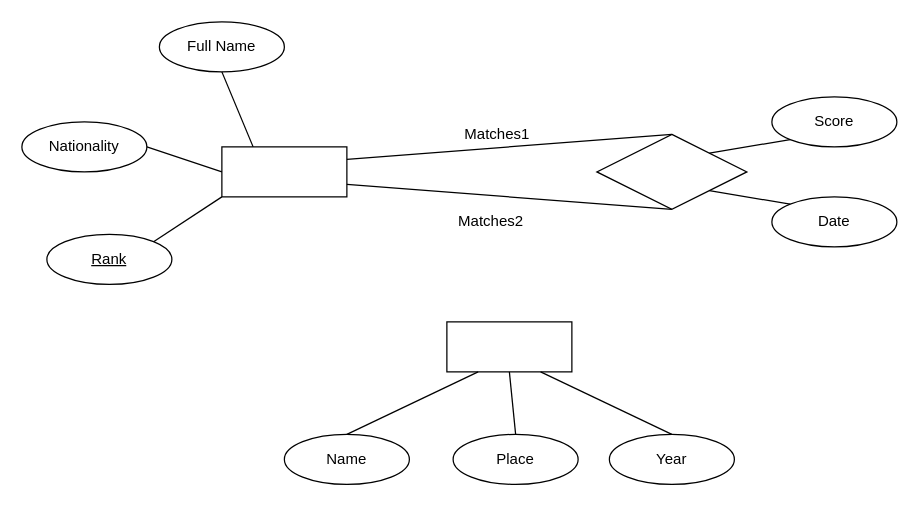
This 919x506 diagram has some shape labels left out. The box of each missing label's shape, as (x1, y1, x2, y2) in pixels:
Athlete: (221, 146, 347, 197)
Matches: (596, 133, 747, 209)
Tournament: (446, 321, 572, 372)
